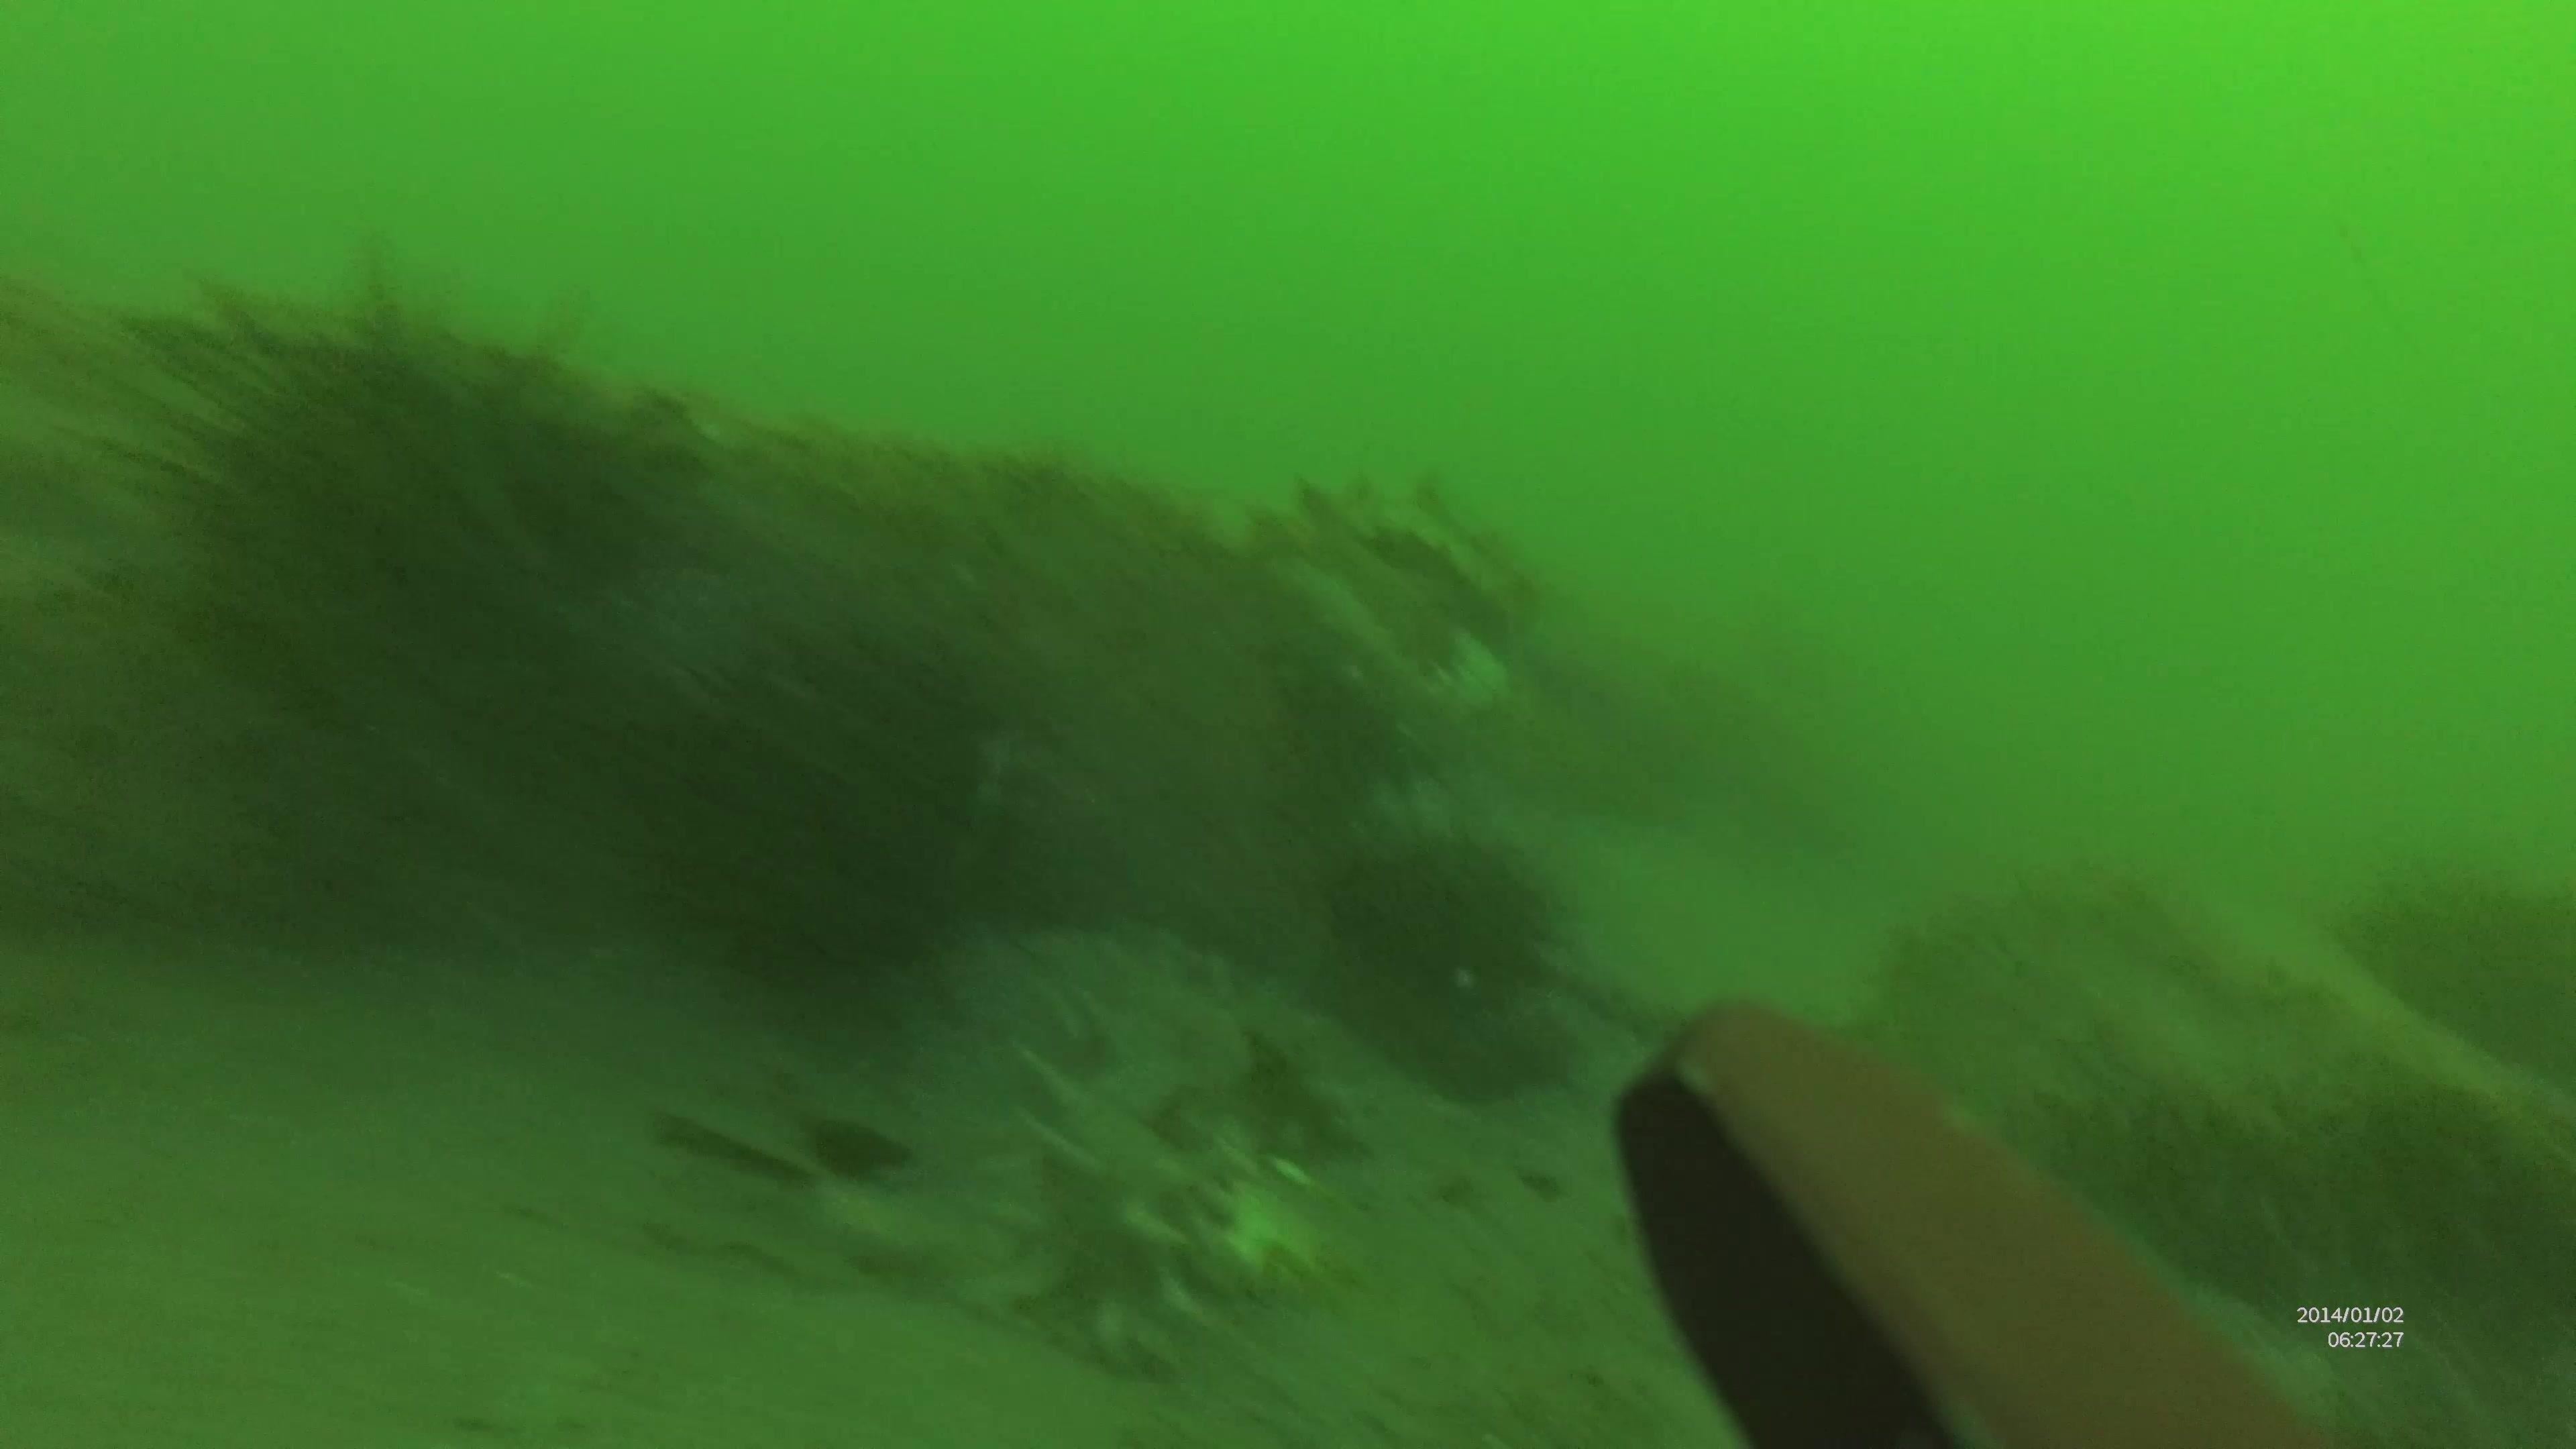echinus: (62, 253, 639, 722), (2335, 853, 2572, 1083), (1322, 819, 1569, 1021)
holothurian: (984, 1005, 1341, 1371), (1295, 455, 1548, 649)
